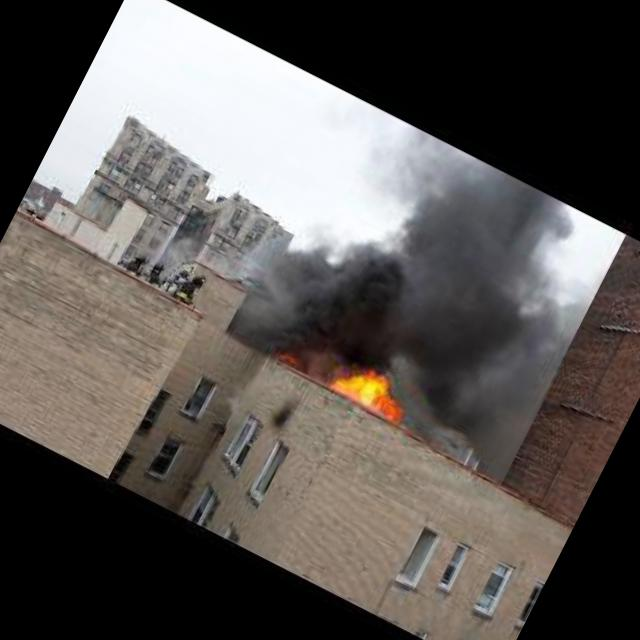fire: (322, 346, 421, 427), (268, 339, 312, 373)
smoke: (238, 91, 615, 443)
